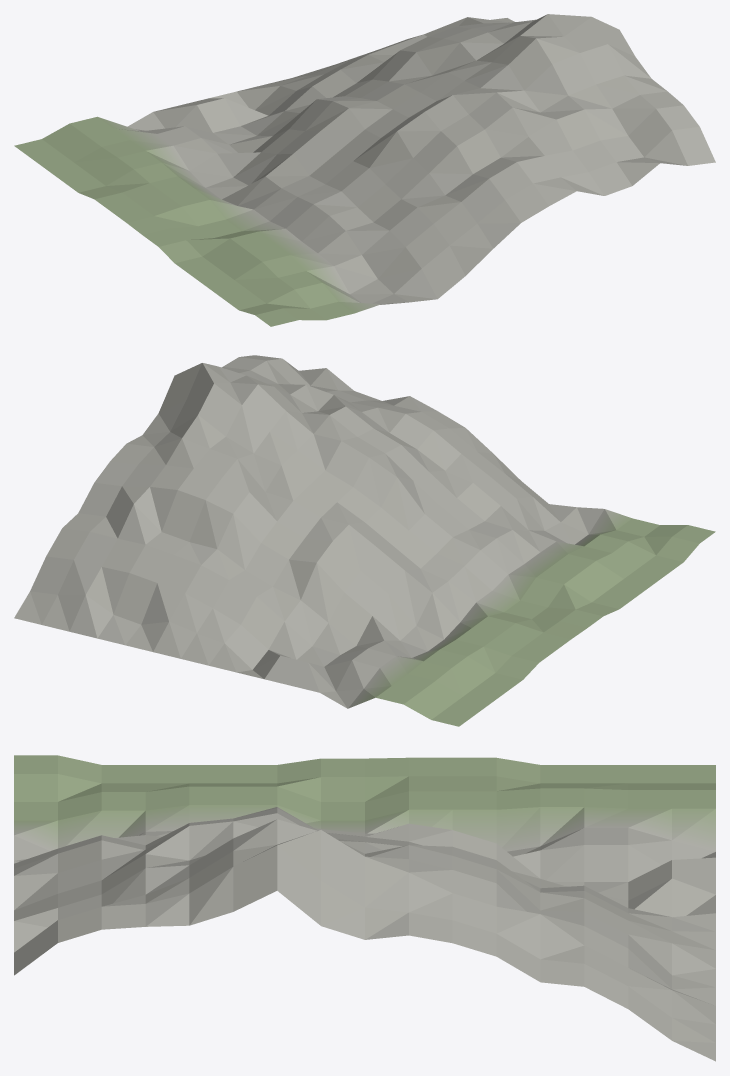
The picture shows the model from 3 angles, top to bottom: view 1: azimuth 30°, elevation 25°; view 2: azimuth 150°, elevation 25°; view 3: azimuth 270°, elevation 25°; orthographic projection. The views are drawn at different scales.
Size of the model in its own units: 32 by 10.71 by 32.
